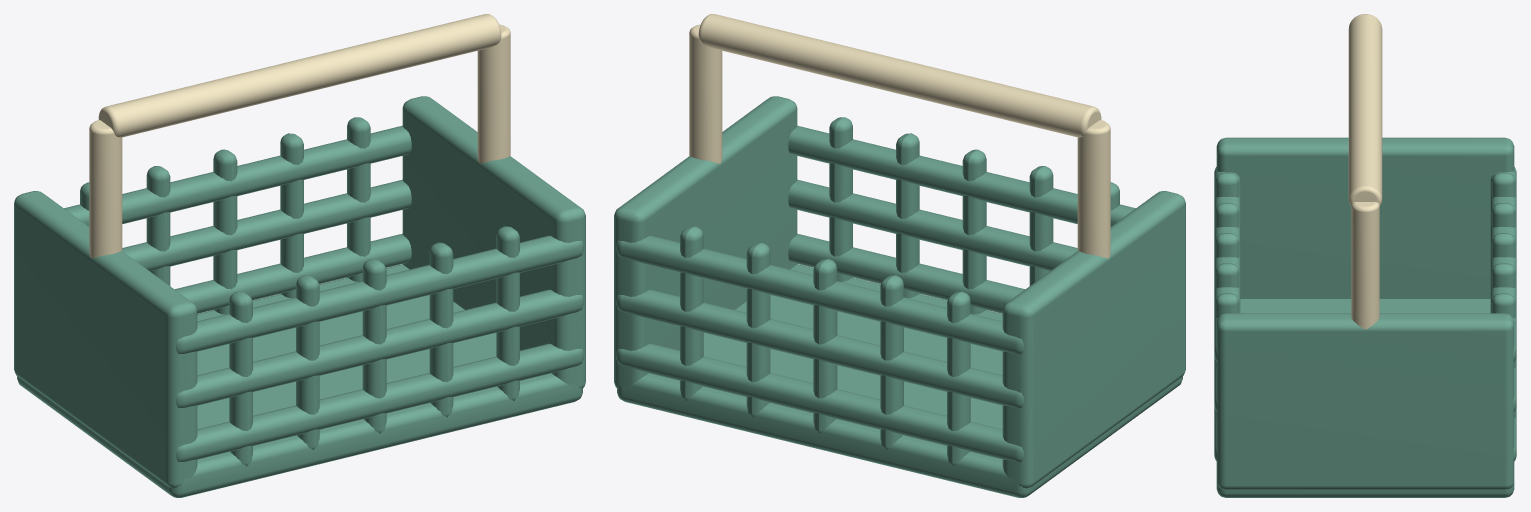
File: basket.glb
3 views of the same model, side by side, from view 1: azimuth 30°, elevation 25°; view 2: azimuth 150°, elevation 25°; view 3: azimuth 270°, elevation 25° (orthographic). The views are drawn at different scales.
Parts seen in each view (by area): view 1: basket.side, basket.base, basket.side.001, basket.grip, basket.rail.004, basket.rail.003, basket.rail.005, basket.rail.002, basket.rail.001, basket.rail, basket.handle, basket.handle.001 (+9 smaller); view 2: basket.side, basket.base, basket.side.001, basket.grip, basket.rail.001, basket.rail, basket.rail.002, basket.rail.005, basket.rail.004, basket.rail.003, basket.handle, basket.handle.001 (+9 smaller); view 3: basket.side.001, basket.side, basket.grip, basket.base, basket.handle.001, basket.rail.002, basket.rail.005, basket.rib.002, basket.rib.007, basket.rib.003, basket.rib.008, basket.rib (+5 smaller).
Boxes of the visible parts, x1,y1,x2,y2 form: basket.side: (14, 191, 197, 488); basket.base: (17, 264, 582, 497); basket.side.001: (402, 96, 585, 388); basket.grip: (98, 14, 501, 137); basket.rail.004: (176, 289, 583, 407); basket.rail.003: (176, 343, 583, 461); basket.rail.005: (176, 235, 583, 353); basket.rail.002: (64, 125, 411, 226); basket.rail.001: (122, 179, 411, 271); basket.rail: (175, 233, 411, 313); basket.handle: (89, 120, 122, 258); basket.handle.001: (477, 24, 510, 163); basket.side: (1002, 191, 1185, 488); basket.base: (617, 264, 1182, 497); basket.side.001: (614, 96, 797, 388); basket.grip: (698, 14, 1101, 137); basket.rail.001: (616, 289, 1023, 407); basket.rail: (616, 343, 1023, 461); basket.rail.002: (616, 235, 1023, 353); basket.rail.005: (788, 125, 1135, 226); basket.rail.004: (788, 179, 1077, 271); basket.rail.003: (788, 233, 1024, 313); basket.handle: (1077, 120, 1110, 258); basket.handle.001: (689, 24, 722, 163); basket.side.001: (1216, 313, 1514, 489); basket.side: (1216, 137, 1514, 298); basket.grip: (1348, 14, 1382, 206); basket.base: (1216, 299, 1514, 497); basket.handle.001: (1351, 202, 1379, 329); basket.rail.002: (1490, 167, 1516, 361); basket.rail.005: (1214, 167, 1240, 361); basket.rib.002: (1491, 233, 1515, 257); basket.rib.007: (1215, 233, 1239, 257); basket.rib.003: (1491, 263, 1515, 288); basket.rib.008: (1215, 263, 1239, 288); basket.rib: (1491, 172, 1515, 197).
Bounding box in the file's own units: 0.4059 × 0.308 × 0.2743.
